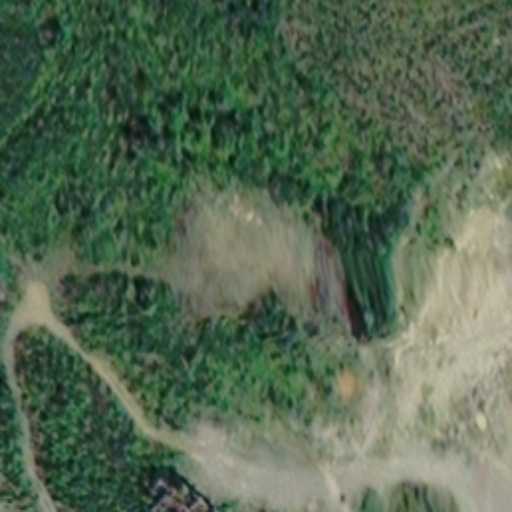landslide: (367, 175, 510, 442), (158, 174, 348, 321)
